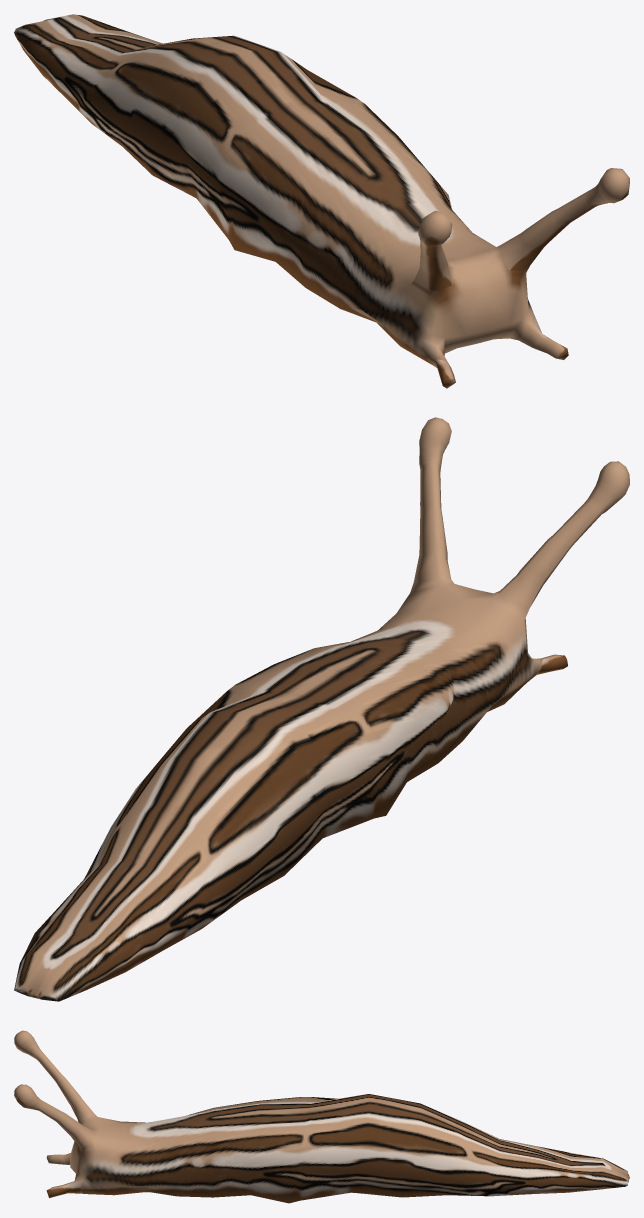
Rendered from kouyu.FBX.
3 views of the same model, one above another, from view 1: azimuth 30°, elevation 25°; view 2: azimuth 150°, elevation 25°; view 3: azimuth 270°, elevation 25° (orthographic). The views are drawn at different scales.
Visible parts, largest first — view 1: default; view 2: default; view 3: default.
Boxes of the visible parts, x1,y1,x2,y2 form: default: (14, 14, 629, 388); default: (14, 417, 629, 1001); default: (14, 1030, 629, 1203).
Bounding box in the file's own units: 12.46 × 11.53 × 51.99.
